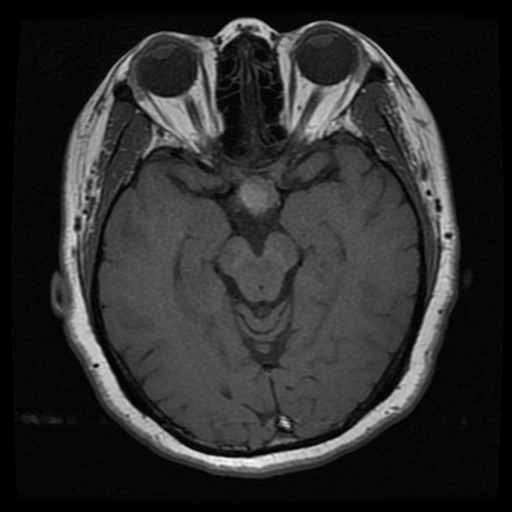pituitary: (239, 174, 277, 213)
